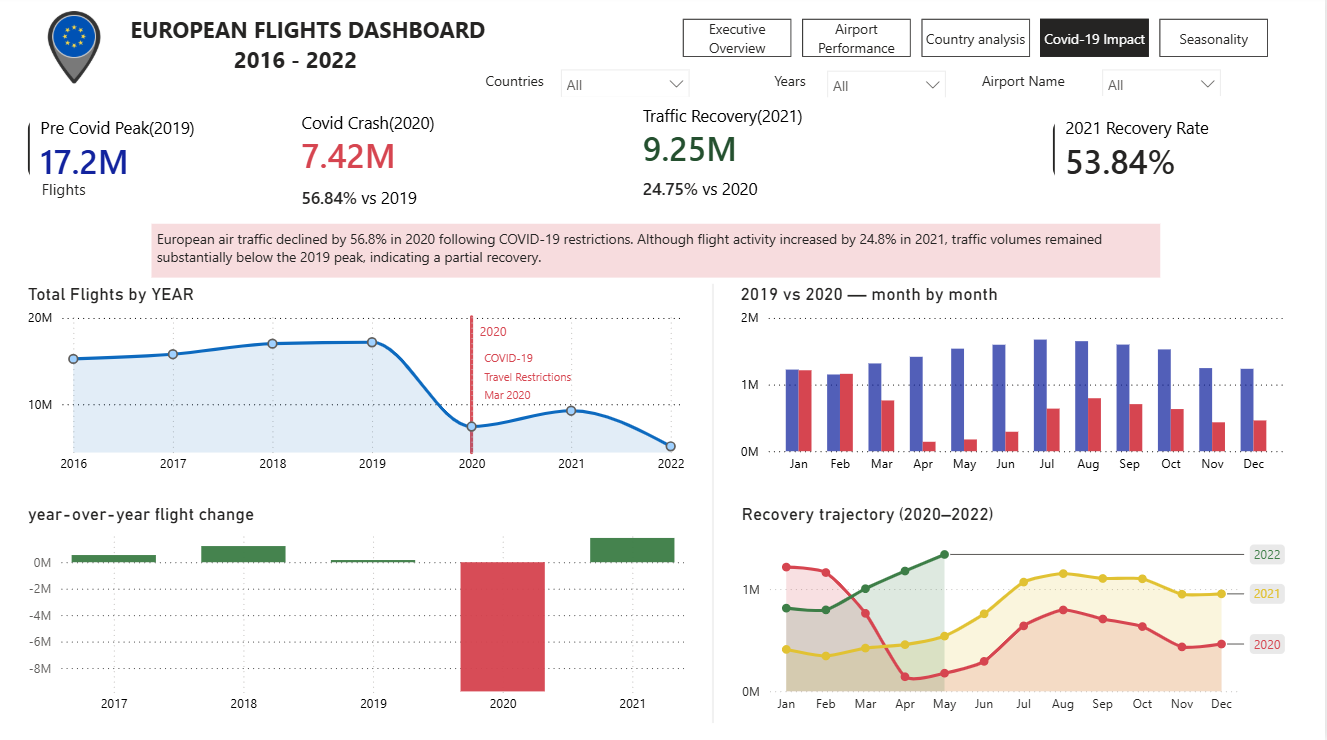

The dashboard page shown, as its layout file describes it:
{"tool":"powerbi","page":{"name":"Covid-19 Impact","canvas":[1280,720],"ordinal":3},"visuals":[{"type":"cardVisual","fields":{"Data":["All Measures.Pre Covid Peak(2019)"]},"box":[23.3,108.4,240.1,81],"z":0},{"type":"textbox","box":[35.7,172.9,111.1,32.9],"z":1000},{"type":"textbox","box":[122.3,13.5,360.7,92.9],"z":2000},{"type":"image","box":[23.2,13.5,99,74.6],"z":3000},{"type":"slicer","fields":{"Values":["European Flights.STATE_NAME"]},"box":[532.1,61,144.3,36.7],"z":4000},{"type":"textbox","box":[464.5,68.8,83.2,35],"z":5000},{"type":"slicer","fields":{"Values":["European Flights.YEAR"]},"box":[779.1,61,144.3,35.5],"z":6000},{"type":"textbox","box":[743.6,68.4,69.7,29.3],"z":7000},{"type":"cardVisual","fields":{"Data":["All Measures.Covid Crash"]},"box":[275.1,109.8,165.3,150.8],"z":8000},{"type":"cardVisual","fields":{"Data":["All Measures.Recovery(2021)"]},"box":[604.4,103.8,202.7,146],"z":9000},{"type":"cardVisual","fields":{"Data":["All Measures.2021 Recovery Rate"]},"box":[1012.2,109.8,212.3,79.6],"z":10000},{"type":"slicer","fields":{"Values":["Custom_calender.Year"]},"box":[789,62.8,134.5,35.7],"z":11000},{"type":"slicer","fields":{"Values":["European Flights.APT_ICAO"]},"box":[1053.9,61.5,134.5,35.7],"z":12000},{"type":"textbox","box":[943.4,68.8,111,35],"z":13000},{"type":"areaChart","fields":{"Y":["All Measures.Total Flights"],"Category":["European Flights.YEAR"]},"box":[23.3,278.6,643.6,192.1],"z":14000},{"type":"textbox","box":[463.8,334.8,140,65.9],"z":15000},{"type":"clusteredColumnChart","title":"2019 vs 2020 — month by month","fields":{"Y":["All Measures.Pre Covid Peak(2019)","All Measures.Covid Crash(2020)"],"Category":["Custom_calender.Month name"]},"box":[710.6,278.7,534.5,191.8],"z":16000},{"type":"lineChart","title":"Recovery trajectory (2020–2022)","fields":{"Y":["All Measures.Total Flights"],"Series":["Custom_calender.Year"],"Category":["Custom_calender.Month name"]},"box":[711.8,491,534.5,211.1],"z":17000},{"type":"pageNavigator","box":[659.9,22.9,567,37.4],"z":18000},{"type":"actionButton","box":[658.7,22.9,106.2,39.8],"z":19000},{"type":"actionButton","box":[778.2,20.5,103.8,39.8],"z":20000},{"type":"actionButton","box":[946.8,20.6,140,39.8],"z":21000},{"type":"actionButton","box":[1118.5,20.1,107.8,40.1],"z":22000},{"type":"actionButton","box":[891.6,22.9,103.8,39.8],"z":23000},{"type":"actionButton","box":[1002.6,20.5,103.8,39.8],"z":24000},{"type":"actionButton","box":[1120.8,20.5,103.8,39.8],"z":25000},{"type":"clusteredColumnChart","title":" year-over-year flight change","fields":{"Category":["Custom_calender.Date.Variation.Date Hierarchy.Year"],"Y":["All Measures.YOY Flight change"]},"box":[23.3,491.3,643.6,211.3],"z":26000},{"type":"shape","box":[666.9,278.6,43.9,424],"z":27000},{"type":"textbox","box":[147.2,220.8,973.6,51.9],"z":28000}]}

Visuals, with their boxes in screenshot pixels (x1, y1, x2, y2), scaled from the page's 1280x720 canvas onto the 1327x740 screenshot:
cardVisual - All Measures.Pre Covid Peak(2019): [left=24, top=111, right=273, bottom=195]
textbox: [left=37, top=178, right=152, bottom=212]
textbox: [left=127, top=14, right=501, bottom=109]
image: [left=24, top=14, right=127, bottom=91]
slicer - European Flights.STATE_NAME: [left=552, top=63, right=701, bottom=100]
textbox: [left=482, top=71, right=568, bottom=107]
slicer - European Flights.YEAR: [left=808, top=63, right=957, bottom=99]
textbox: [left=771, top=70, right=843, bottom=100]
cardVisual - All Measures.Covid Crash: [left=285, top=113, right=457, bottom=268]
cardVisual - All Measures.Recovery(2021): [left=627, top=107, right=837, bottom=257]
cardVisual - All Measures.2021 Recovery Rate: [left=1049, top=113, right=1269, bottom=195]
slicer - Custom_calender.Year: [left=818, top=65, right=957, bottom=101]
slicer - European Flights.APT_ICAO: [left=1093, top=63, right=1232, bottom=100]
textbox: [left=978, top=71, right=1093, bottom=107]
areaChart - All Measures.Total Flights x European Flights.YEAR: [left=24, top=286, right=691, bottom=484]
textbox: [left=481, top=344, right=626, bottom=412]
"2019 vs 2020 — month by month" clusteredColumnChart: [left=737, top=286, right=1291, bottom=484]
"Recovery trajectory (2020–2022)" lineChart: [left=738, top=505, right=1292, bottom=722]
pageNavigator: [left=684, top=24, right=1272, bottom=62]
actionButton: [left=683, top=24, right=793, bottom=64]
actionButton: [left=807, top=21, right=914, bottom=62]
actionButton: [left=982, top=21, right=1127, bottom=62]
actionButton: [left=1160, top=21, right=1271, bottom=62]
actionButton: [left=924, top=24, right=1032, bottom=64]
actionButton: [left=1039, top=21, right=1147, bottom=62]
actionButton: [left=1162, top=21, right=1270, bottom=62]
" year-over-year flight change" clusteredColumnChart: [left=24, top=505, right=691, bottom=722]
shape: [left=691, top=286, right=737, bottom=722]
textbox: [left=153, top=227, right=1162, bottom=280]
